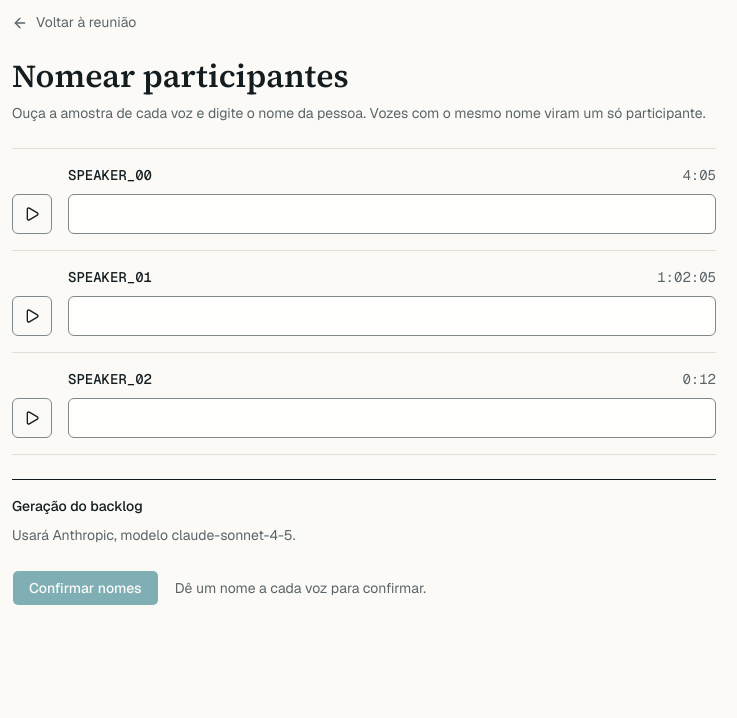
mostra o erro da API e fica na tela
In the field named "Nome de SPEAKER_00": (392, 214) x1=68 y1=194 x2=716 y2=234, type "Ana"
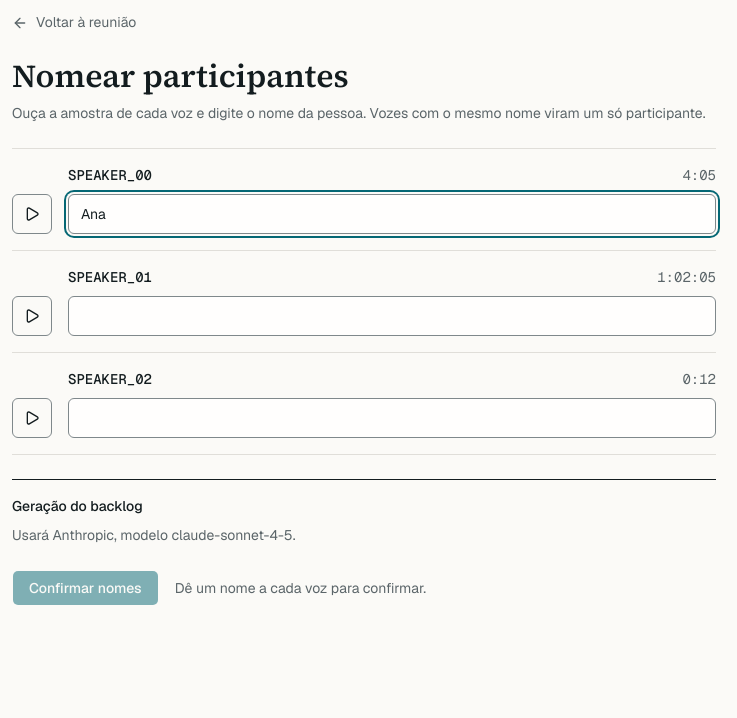
In the field named "Nome de SPEAKER_01": (392, 316) x1=68 y1=296 x2=716 y2=336, type "Bruno"
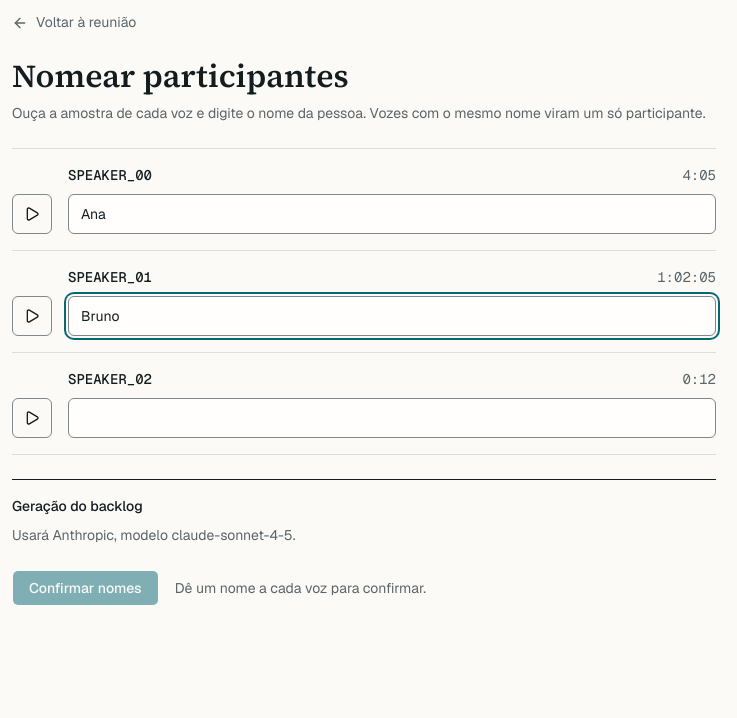
In the field named "Nome de SPEAKER_02": (392, 418) x1=68 y1=398 x2=716 y2=438, type "Carla"
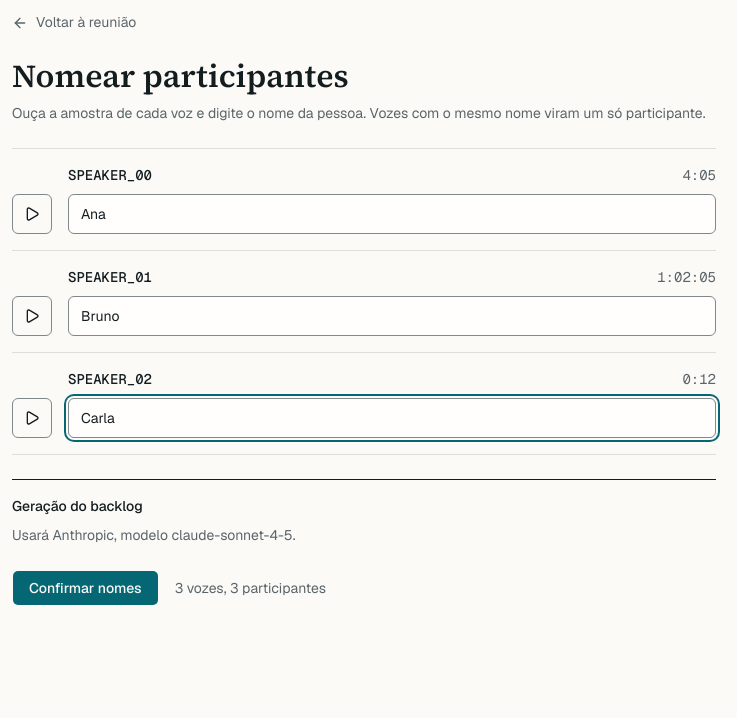
Click the button "Confirmar nomes": (85, 588) x1=12 y1=570 x2=159 y2=606
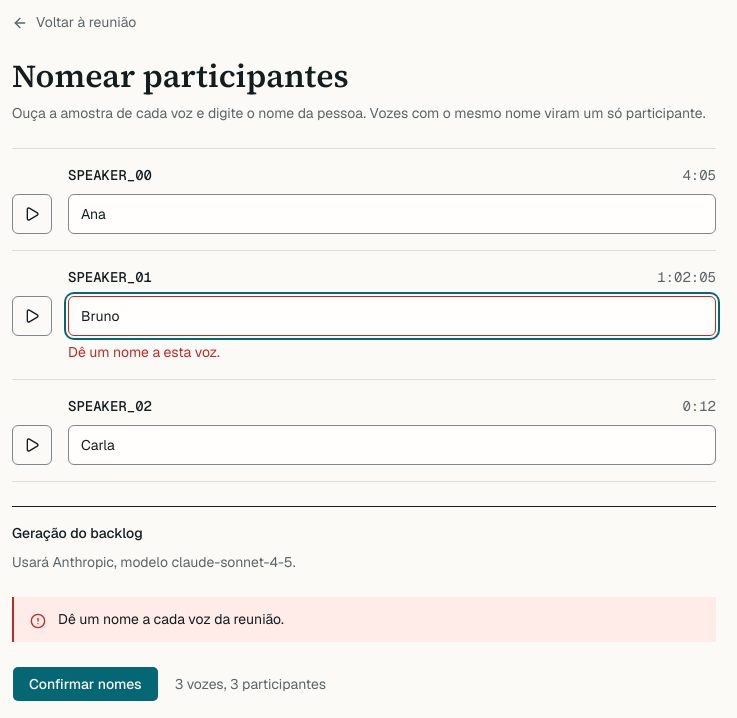
Now the message reads "Dê um nome a cada voz da reunião.", box x1=58 y1=610 x2=284 y2=628
